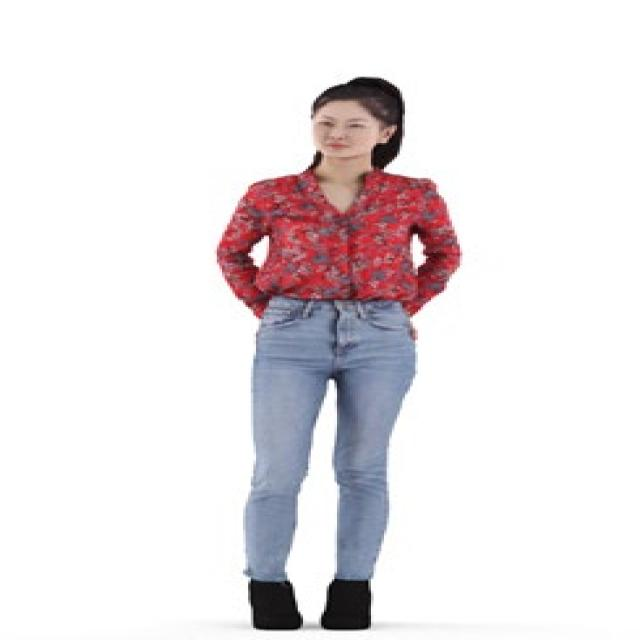standing: (210, 69, 460, 631)
